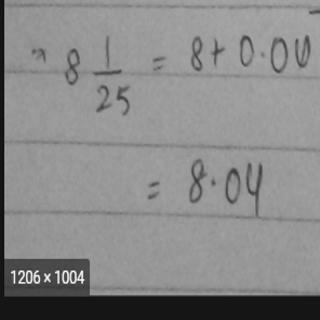.: (205, 175, 222, 187), (256, 48, 268, 62)
0: (271, 36, 290, 74), (225, 168, 244, 205), (293, 33, 311, 71), (238, 32, 256, 69)
1: (103, 34, 114, 68)
2: (94, 83, 114, 114)
4: (239, 162, 268, 225)
5: (113, 82, 134, 120)
8: (187, 160, 210, 202), (62, 49, 84, 85), (187, 35, 206, 71)
